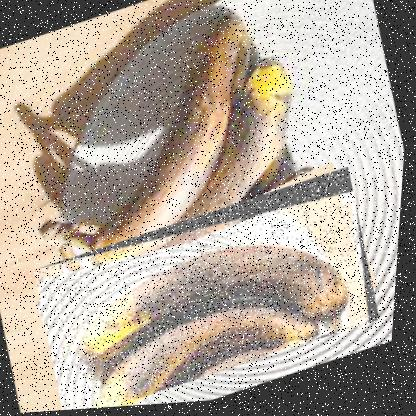banana_rotten: (29, 167, 394, 412)
